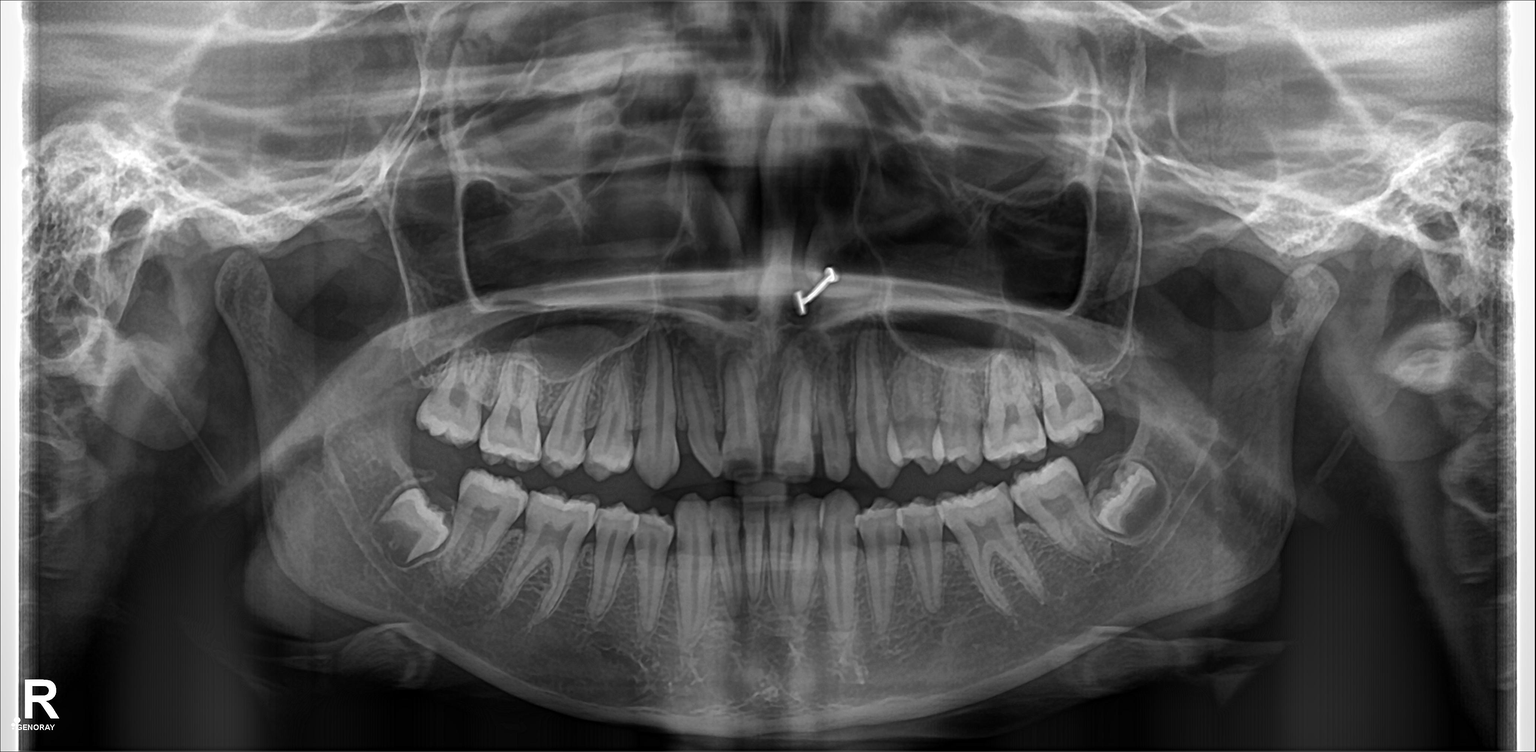Dental Caries: (380, 519, 417, 560)
Impacted Third Molar: (372, 488, 451, 566), (1102, 471, 1168, 539)
Missing Tooth: (1082, 341, 1132, 425)
